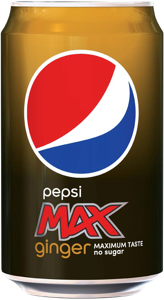pepsi: (20, 46, 138, 177), (22, 48, 138, 177)
